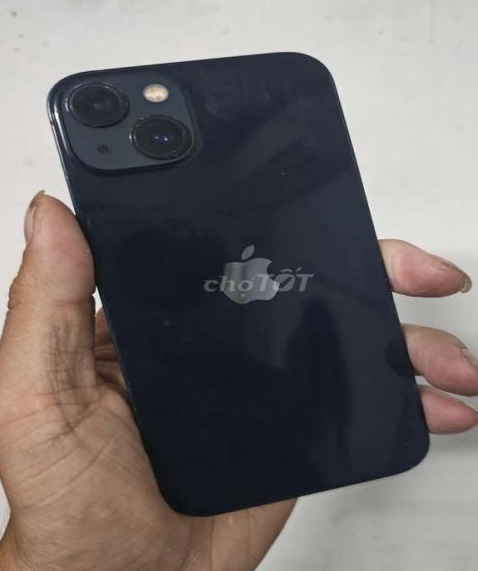scratch: (99, 314, 165, 431), (134, 303, 223, 356)
